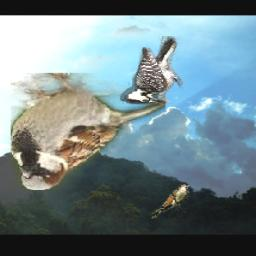Cuckoo: (151, 184, 189, 218)
Sparrow: (11, 74, 166, 191)
Woodpecker: (118, 36, 186, 104)
